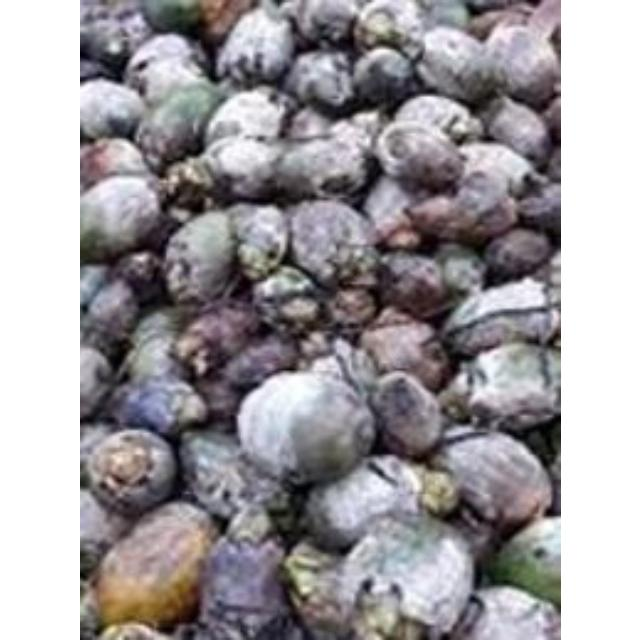damaged: (330, 510, 472, 638), (91, 500, 215, 630), (235, 370, 371, 486), (430, 424, 550, 540), (192, 530, 298, 640), (302, 456, 420, 550), (446, 342, 558, 434), (179, 430, 283, 524), (440, 278, 558, 359), (84, 428, 178, 518), (284, 200, 374, 288), (134, 84, 226, 170), (160, 210, 240, 308), (266, 134, 372, 206), (486, 514, 558, 614), (356, 315, 446, 393), (412, 26, 502, 104), (371, 118, 463, 194), (478, 21, 558, 108), (174, 303, 262, 379), (198, 134, 290, 206), (366, 372, 442, 458), (106, 374, 202, 440), (216, 5, 294, 86), (446, 584, 558, 640), (121, 33, 206, 101), (120, 310, 190, 388), (373, 250, 451, 318), (476, 95, 550, 165), (220, 332, 300, 396), (204, 86, 288, 146), (80, 274, 140, 356), (454, 141, 534, 201), (230, 202, 290, 280), (282, 49, 356, 112), (388, 94, 478, 144), (250, 266, 322, 328), (289, 572, 355, 638), (79, 485, 129, 571), (352, 0, 428, 56), (80, 79, 144, 143), (348, 46, 416, 106), (141, 498, 213, 552), (481, 228, 551, 282), (303, 342, 377, 392), (80, 136, 148, 188), (403, 193, 475, 241), (282, 540, 336, 602), (289, 0, 356, 48), (194, 0, 256, 48), (79, 345, 117, 423), (434, 241, 484, 299), (111, 250, 165, 300), (193, 372, 245, 423), (464, 5, 532, 43), (324, 283, 378, 329), (514, 181, 560, 235), (463, 197, 517, 243), (80, 421, 118, 483), (110, 4, 154, 54), (138, 0, 202, 34), (284, 103, 336, 141), (434, 420, 488, 456), (132, 120, 172, 168), (136, 212, 176, 258), (131, 308, 177, 344), (419, 1, 467, 31), (294, 329, 336, 363), (80, 262, 108, 312), (348, 108, 384, 144), (79, 54, 115, 86), (79, 588, 103, 636), (382, 224, 422, 252), (80, 542, 104, 580), (80, 2, 112, 28)
